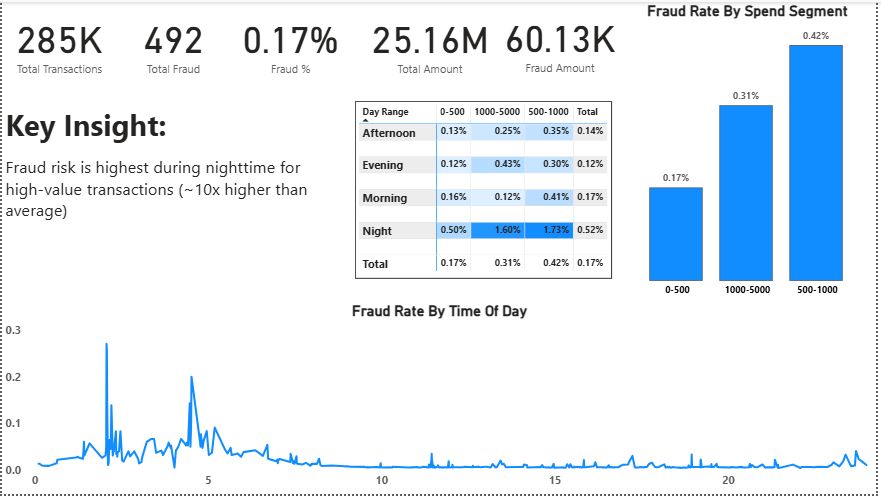

What the dashboard file says about the page in this screenshot:
{"tool":"powerbi","page":{"name":"Page 1","canvas":[1280,720],"ordinal":0},"visuals":[{"type":"card","fields":{"Values":["creditcard.Total Transactions"]},"box":[0,0,168.3,118.5],"z":0},{"type":"card","fields":{"Values":["Sum(creditcard.Amount)"]},"box":[522.4,0,194.6,118.5],"z":1000},{"type":"card","fields":{"Values":["creditcard.Fraud %"]},"box":[322,2.9,200.5,112.7],"z":2000},{"type":"card","fields":{"Values":["creditcard.Total Fraud"]},"box":[158,2.9,185.9,112.7],"z":3000},{"type":"lineChart","title":"Fraud Rate By Time Of Day","fields":{"Category":["creditcard.Day time"],"Y":["creditcard.Fraud Rate by Time"]},"box":[0,439,1280.5,281],"z":4000},{"type":"card","fields":{"Values":["creditcard.Fraud Amount"]},"box":[705.4,0,196.1,115.6],"z":5000},{"type":"columnChart","title":"Fraud Rate By Spend Segment","fields":{"Y":["creditcard.Fraud %"],"Category":["creditcard.Spend segment"]},"box":[901.5,0,379,439],"z":6000},{"type":"pivotTable","fields":{"Values":["creditcard.Fraud %"],"Rows":["creditcard.daytime range"],"Columns":["creditcard.Spend segment"]},"box":[516.6,144.9,376.1,260.5],"z":7000},{"type":"textbox","box":[0,144.9,499,260.5],"z":8000}]}

Visuals, with their boxes in screenshot pixels (x1, y1, x2, y2), scaled from the page's 1280x720 canvas onto the 881x499 screenshot:
card - creditcard.Total Transactions: BBox(0, 0, 116, 82)
card - Sum(creditcard.Amount): BBox(360, 0, 493, 82)
card - creditcard.Fraud %: BBox(222, 2, 360, 80)
card - creditcard.Total Fraud: BBox(109, 2, 237, 80)
"Fraud Rate By Time Of Day" lineChart: BBox(0, 304, 880, 498)
card - creditcard.Fraud Amount: BBox(486, 0, 620, 80)
"Fraud Rate By Spend Segment" columnChart: BBox(620, 0, 880, 304)
pivotTable - creditcard.Fraud % x creditcard.daytime range: BBox(356, 100, 614, 281)
textbox: BBox(0, 100, 343, 281)
